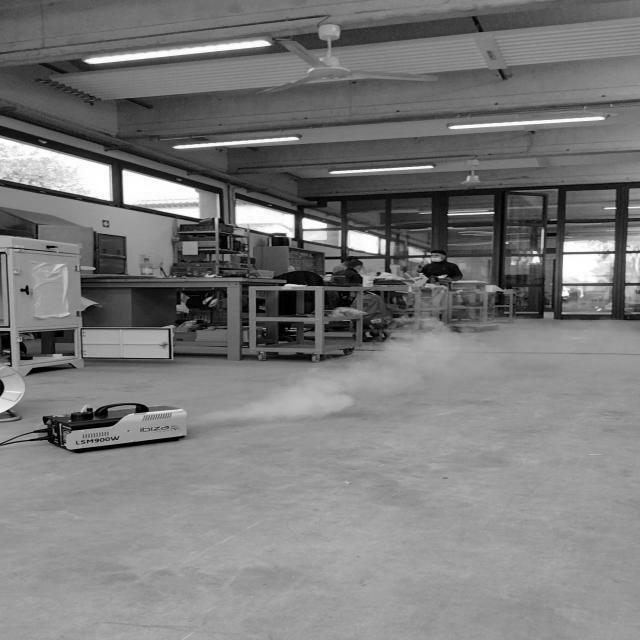fire: (200, 325, 487, 424)
